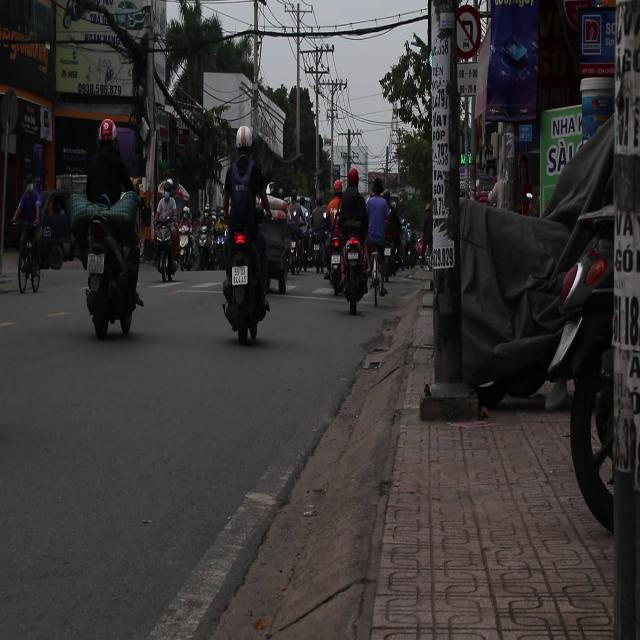motorbike: (83, 206, 142, 341), (230, 218, 270, 369), (338, 229, 376, 322), (154, 216, 176, 291)
